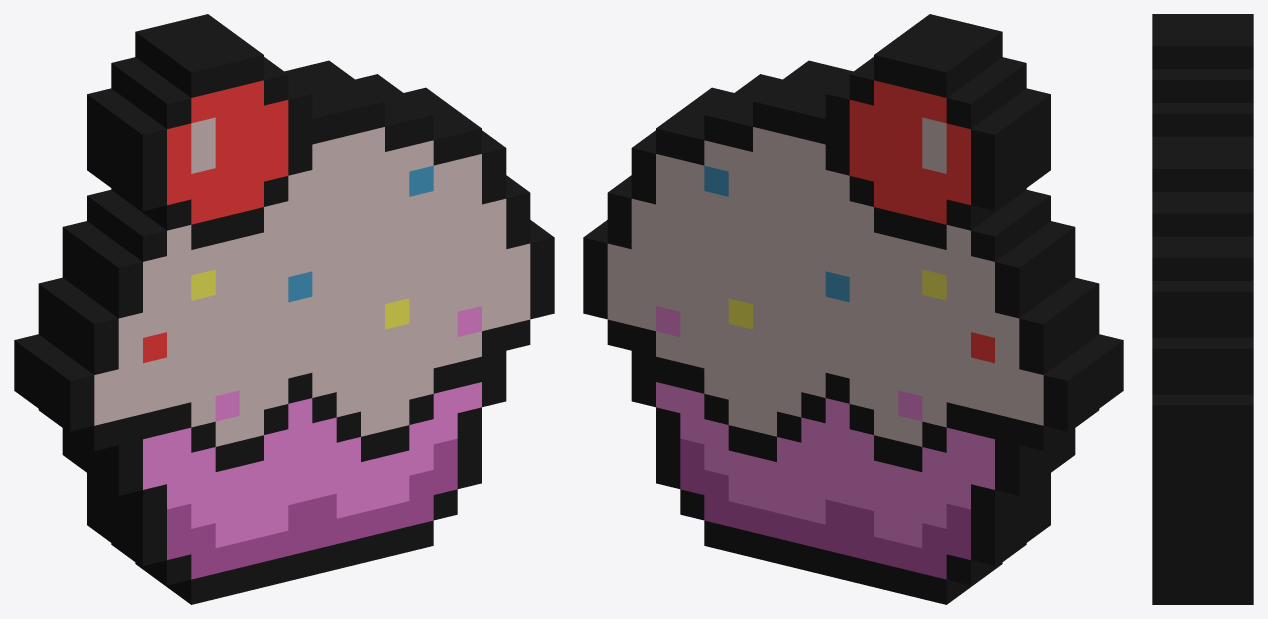
The model's file is lv32 cake.fbx.
The picture shows the model from 3 angles, left to right: view 1: azimuth 30°, elevation 25°; view 2: azimuth 150°, elevation 25°; view 3: azimuth 270°, elevation 25°; orthographic projection. The views are drawn at different scales.
Parts seen in each view (by area): view 1: pCube310, pCube363, pCube478, pCube403, pCube477, pCube406, pCube464, pCube271, pCube338, pCube374, pCube308, pCube459 (+44 smaller); view 2: pCube635, pCube641, pCube642, pCube627, pCube640, pCube625, pCube637, pCube633, pCube643, pCube626, pCube644, pCube615 (+44 smaller); view 3: pCube331, pCube446, pCube482, pCube595, pCube624, pCube646, pCube484, pCube492, pCube539, pCube547, pCube499, pCube554 (+96 smaller).
Boxes of the visible parts, left/top/right/bottom form: pCube310: left=56, top=365, right=94, bottom=406; pCube363: left=80, top=308, right=118, bottom=349; pCube478: left=177, top=56, right=215, bottom=97; pCube403: left=104, top=251, right=142, bottom=292; pCube477: left=153, top=88, right=191, bottom=129; pCube406: left=129, top=220, right=166, bottom=261; pCube464: left=129, top=119, right=166, bottom=160; pCube271: left=104, top=460, right=142, bottom=495; pCube338: left=80, top=339, right=118, bottom=374; pCube374: left=104, top=283, right=142, bottom=318; pCube308: left=56, top=396, right=94, bottom=431; pCube459: left=323, top=97, right=360, bottom=138; pCube635: left=922, top=56, right=960, bottom=97; pCube641: left=1019, top=308, right=1057, bottom=349; pCube642: left=1043, top=365, right=1081, bottom=406; pCube627: left=995, top=251, right=1033, bottom=292; pCube640: left=946, top=88, right=984, bottom=129; pCube625: left=971, top=220, right=1008, bottom=261; pCube637: left=971, top=119, right=1008, bottom=160; pCube633: left=995, top=460, right=1033, bottom=495; pCube643: left=1019, top=339, right=1057, bottom=374; pCube626: left=995, top=283, right=1033, bottom=318; pCube644: left=1043, top=396, right=1081, bottom=431; pCube615: left=777, top=97, right=814, bottom=138; pCube331: left=1152, top=394, right=1177, bottom=428; pCube446: left=1152, top=202, right=1177, bottom=236; pCube482: left=1152, top=35, right=1177, bottom=69; pCube595: left=1228, top=202, right=1253, bottom=236; pCube624: left=1228, top=394, right=1253, bottom=428; pCube646: left=1228, top=35, right=1253, bottom=69; pCube484: left=1177, top=35, right=1202, bottom=69; pCube492: left=1177, top=202, right=1202, bottom=236; pCube539: left=1203, top=35, right=1228, bottom=69; pCube547: left=1203, top=202, right=1228, bottom=236; pCube499: left=1177, top=394, right=1202, bottom=428; pCube554: left=1203, top=394, right=1228, bottom=428.
Size of the model in its own units: 20 by 21 by 4.
